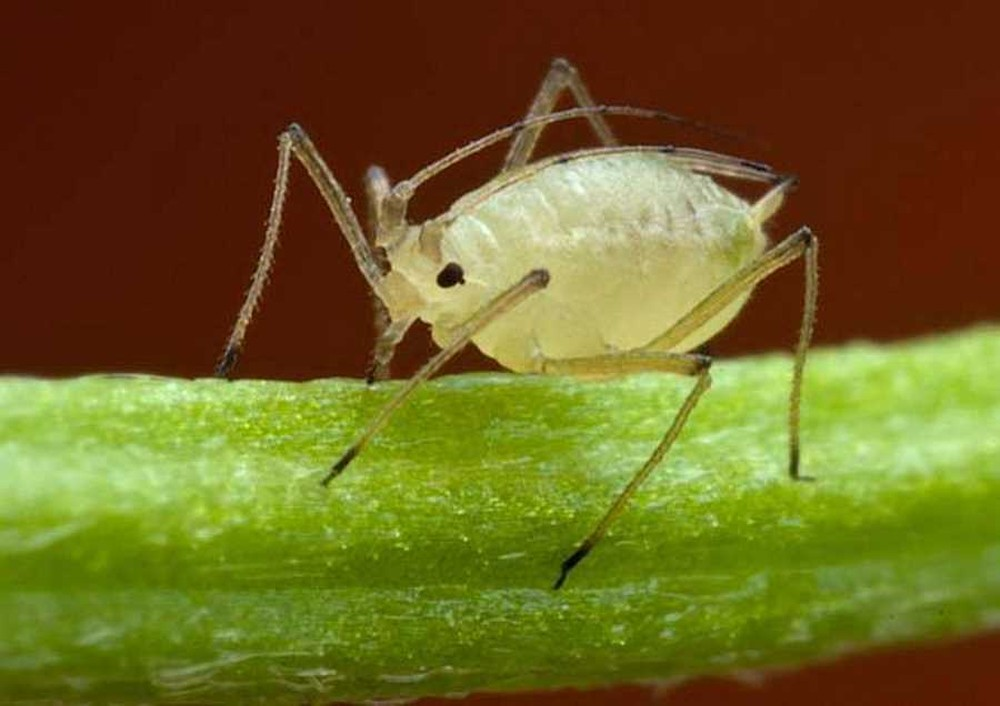Pulgon: (218, 61, 869, 544)
